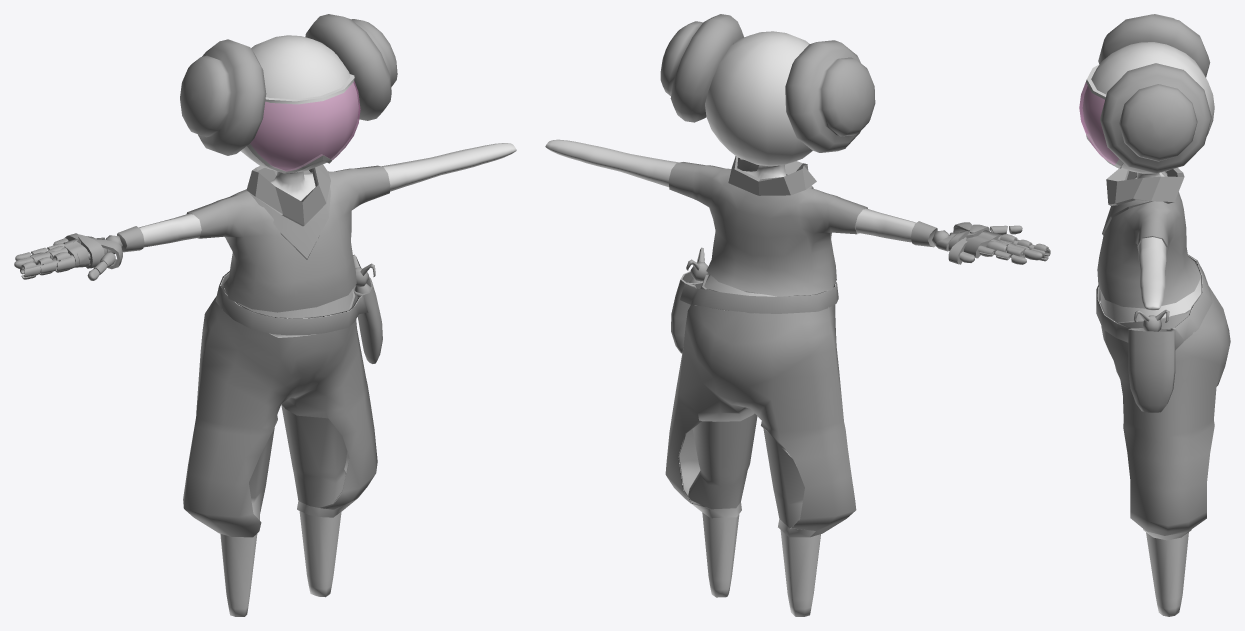
File: BaseModel.fbx
The picture shows the model from 3 angles, left to right: view 1: azimuth 30°, elevation 25°; view 2: azimuth 150°, elevation 25°; view 3: azimuth 270°, elevation 25°; orthographic projection. The views are drawn at different scales.
Parts seen in each view (by area): view 1: BaseMesh, RTBun, pasted__polySurface2, LTBun, HipPouch, pCube2, MagicHand, RobotHand; view 2: BaseMesh, RTBun, LTBun, HipPouch, RobotHand, pCube2, MagicHand; view 3: BaseMesh, LTBun, HipPouch, RTBun, pCube2, pasted__polySurface2, bunny.
Boxes of the visible parts, x1,y1,x2,y2 form: BaseMesh: (139,35,516,616); RTBun: (180,39,266,155); pasted__polySurface2: (247,72,360,173); LTBun: (305,14,397,120); HipPouch: (215,271,382,363); pCube2: (246,164,330,259); MagicHand: (20,227,144,279); RobotHand: (14,226,143,280); BaseMesh: (545,31,916,616); RTBun: (785,40,875,152); LTBun: (660,14,744,122); HipPouch: (671,271,838,353); RobotHand: (911,221,1044,264); pCube2: (728,156,816,195); MagicHand: (915,221,1050,264); BaseMesh: (1083,42,1230,616); LTBun: (1100,63,1211,173); HipPouch: (1096,254,1212,412); RTBun: (1098,14,1210,77); pCube2: (1102,167,1184,235); pasted__polySurface2: (1079,64,1123,168); bunny: (1134,310,1169,331).
Size of the model in its own units: 27.38 by 30.11 by 7.47.
